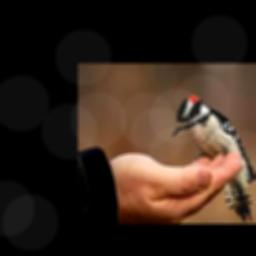Woodpecker: (172, 94, 256, 223)
